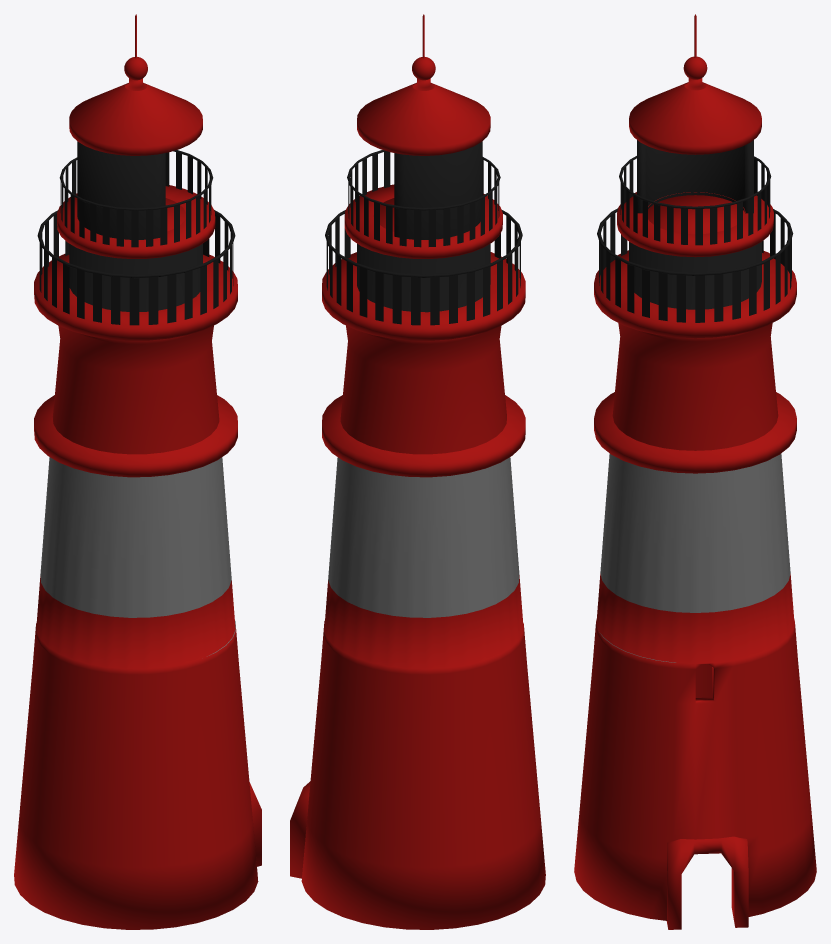
File: LighthouseColored.obj
3 renders of one model, left to right at view 1: azimuth 30°, elevation 25°; view 2: azimuth 150°, elevation 25°; view 3: azimuth 270°, elevation 25°, orthographic.
Parts seen in each view (by area): view 1: Torus.000_Torus.004; view 2: Torus.000_Torus.004; view 3: Torus.000_Torus.004.
Part boxes in pixels (x1,y1,x2,y2): Torus.000_Torus.004: (14,14,261,929); Torus.000_Torus.004: (290,14,545,929); Torus.000_Torus.004: (574,14,816,929).
Size of the model in its own units: 0.6782 by 2.58 by 0.6591.
